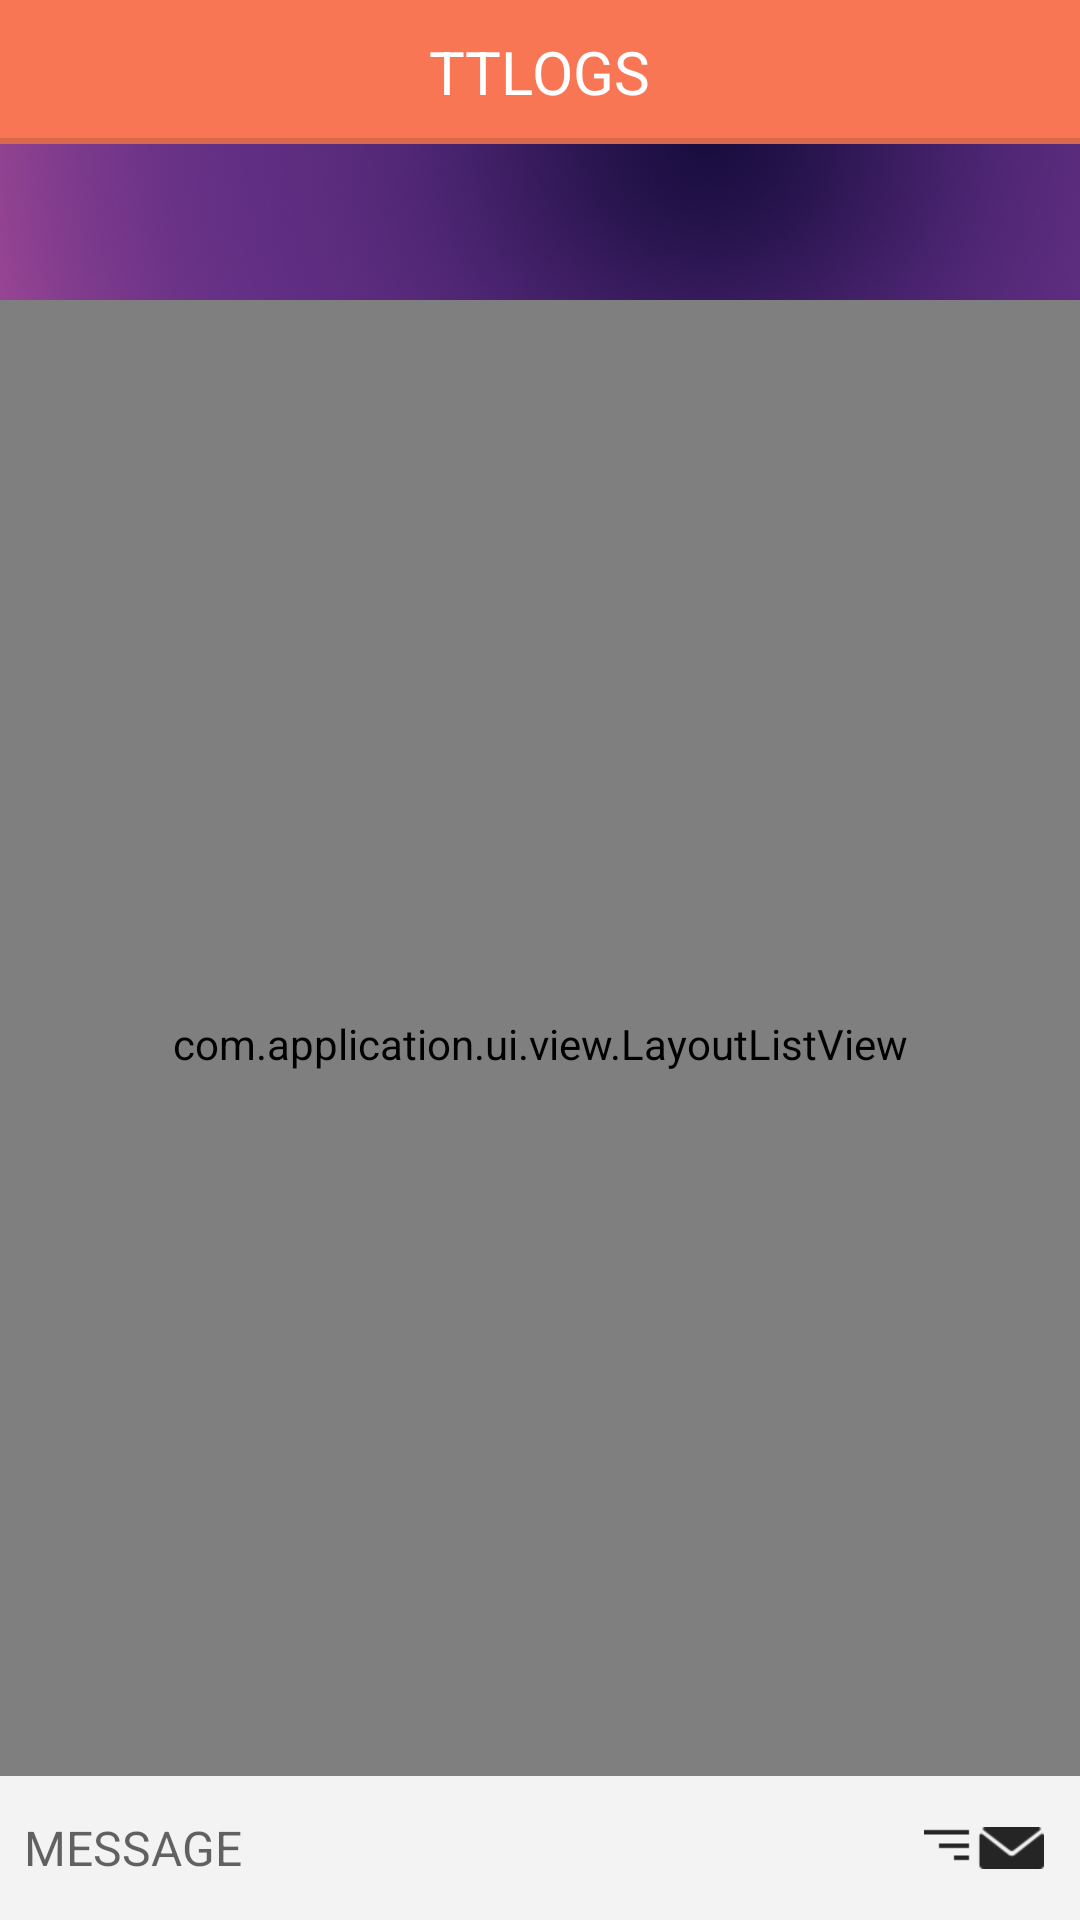

Icon click points for this 1080px×1920px phone screenshot, format (x,y):
chat send: (984,1848)
